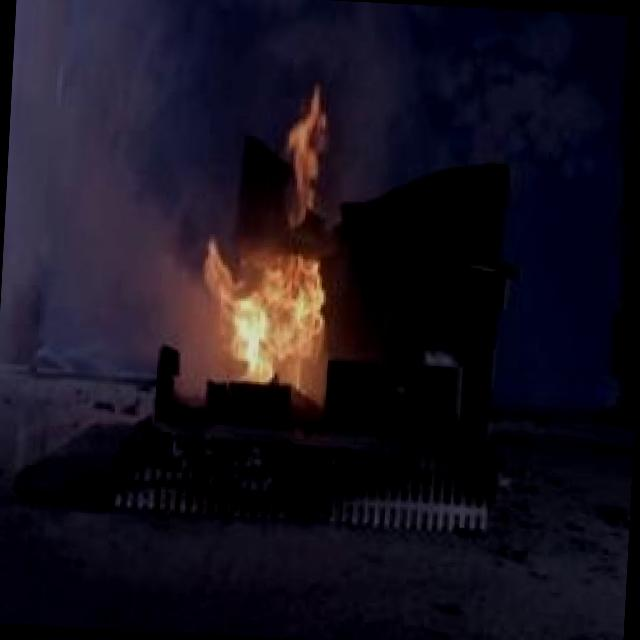fire: (190, 152, 362, 402)
